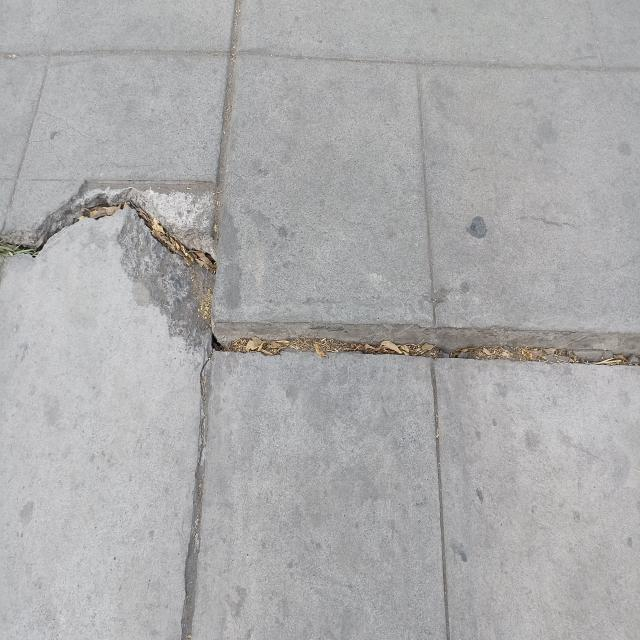hole: (0, 175, 215, 339), (214, 310, 640, 386)
